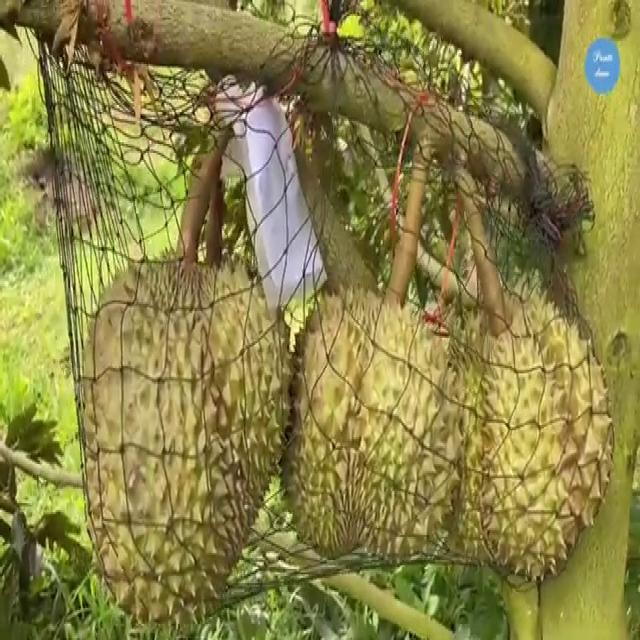durian: (76, 240, 296, 626), (424, 263, 618, 576), (271, 278, 471, 566)
